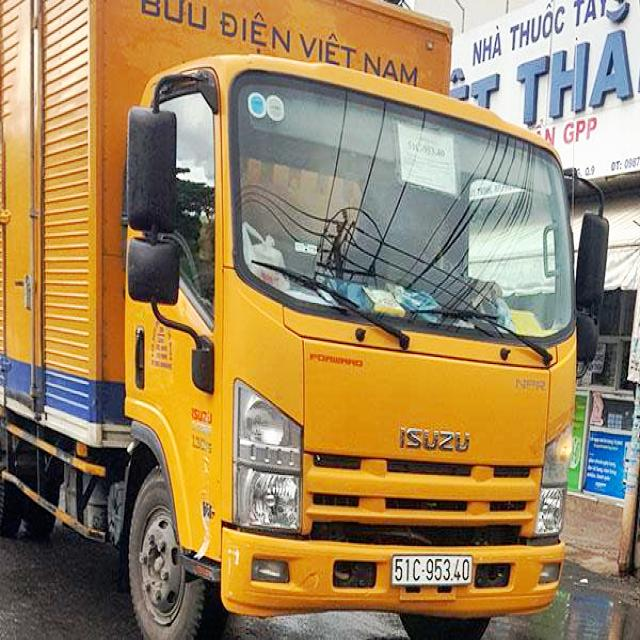license_plate: (390, 554, 474, 585)
